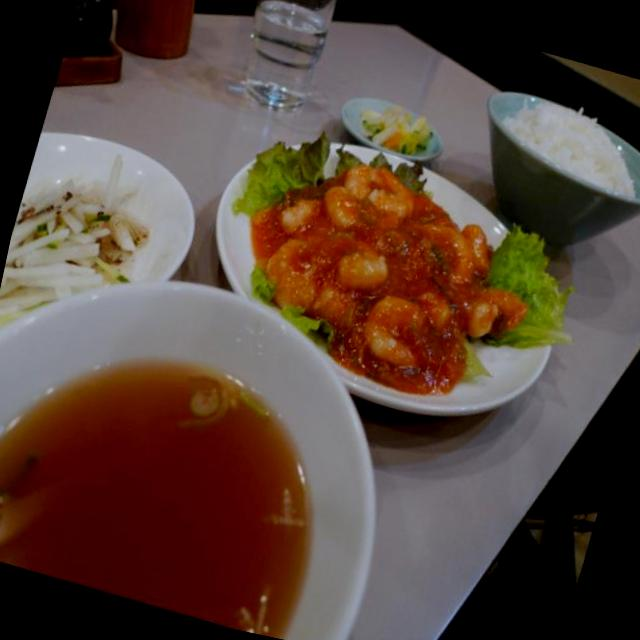Rice: (488, 71, 640, 203)
